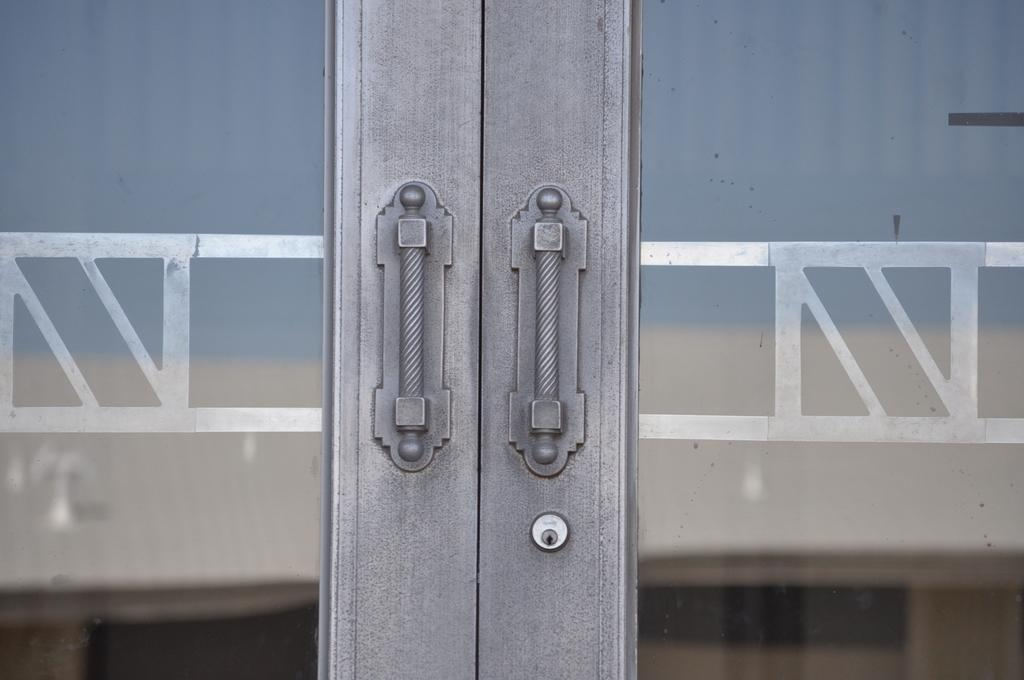handle: (520, 194, 574, 457), (390, 190, 444, 452)
